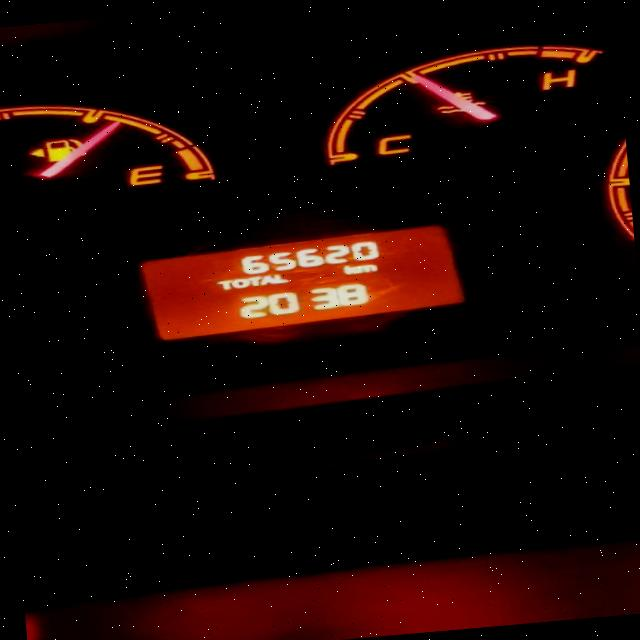odometer: (124, 216, 480, 350)
